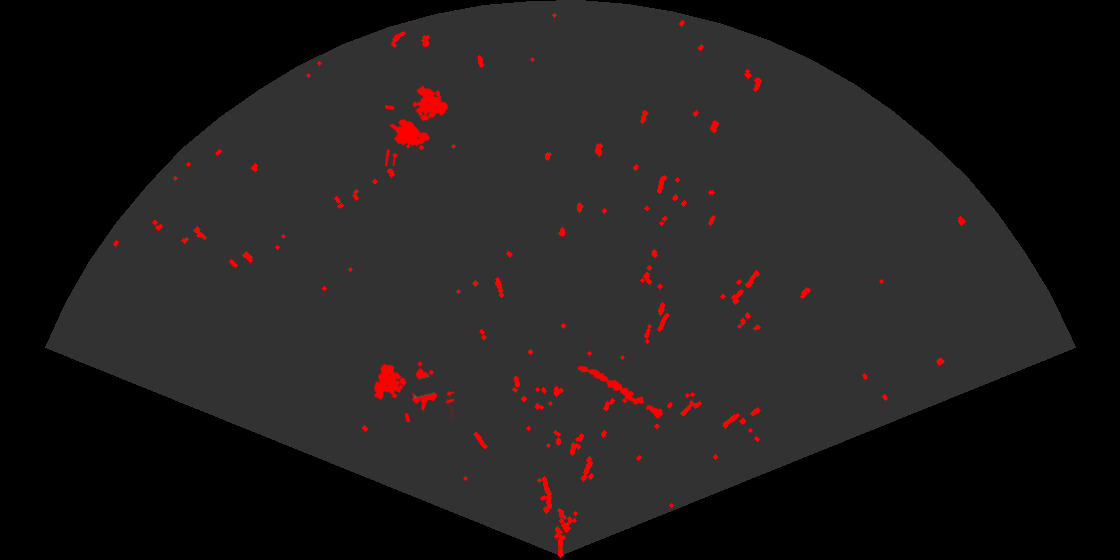cage: (385, 84, 450, 166), (372, 360, 454, 422)
chain: (576, 364, 665, 420)
